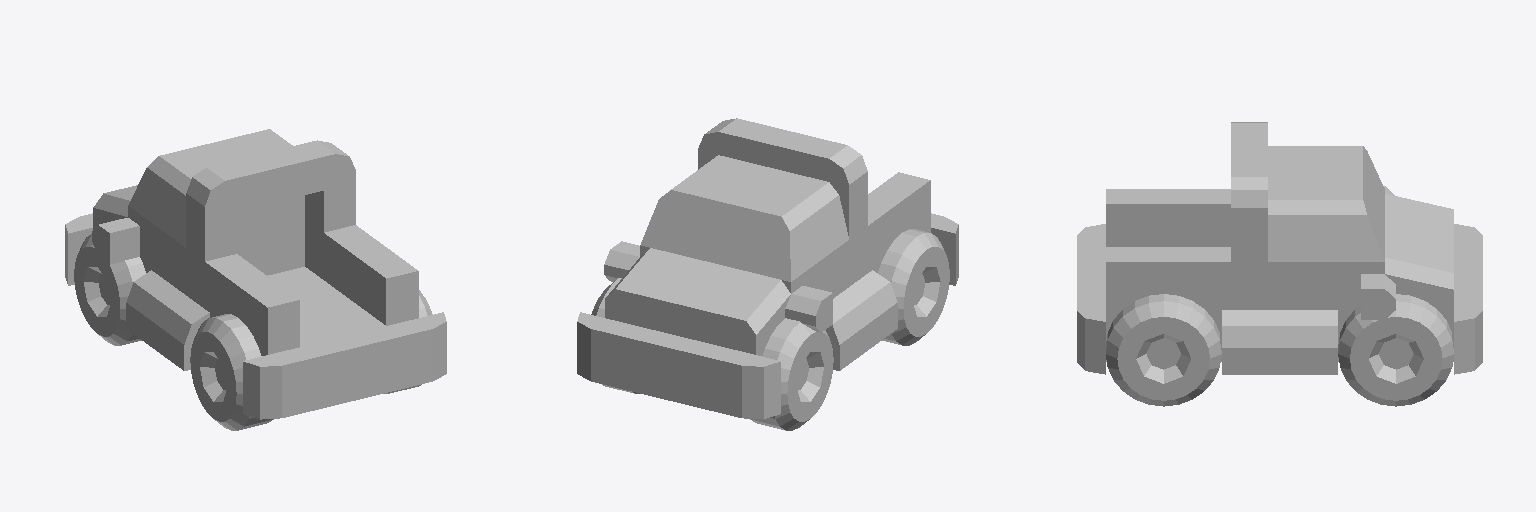
Rendered from vehicle-suv.obj.
3 views of the same model, side by side, from view 1: azimuth 30°, elevation 25°; view 2: azimuth 150°, elevation 25°; view 3: azimuth 270°, elevation 25° (orthographic).
Visible parts, largest first — view 1: vehicle-suv, wheel-bl, wheel-fl; view 2: vehicle-suv, wheel-bl, wheel-fl; view 3: vehicle-suv, wheel-br, wheel-fr.
Part boxes in pixels (left/top/right/bottom): vehicle-suv: left=65, top=129, right=446, bottom=419; wheel-bl: left=190, top=314, right=273, bottom=430; wheel-fl: left=74, top=234, right=145, bottom=345; vehicle-suv: left=577, top=118, right=958, bottom=419; wheel-bl: left=878, top=229, right=949, bottom=345; wheel-fl: left=750, top=318, right=833, bottom=430; vehicle-suv: left=1077, top=122, right=1482, bottom=374; wheel-br: left=1106, top=294, right=1221, bottom=406; wheel-fr: left=1338, top=294, right=1453, bottom=406.
Bounding box in the file's own units: 0.525 × 0.505 × 0.875.